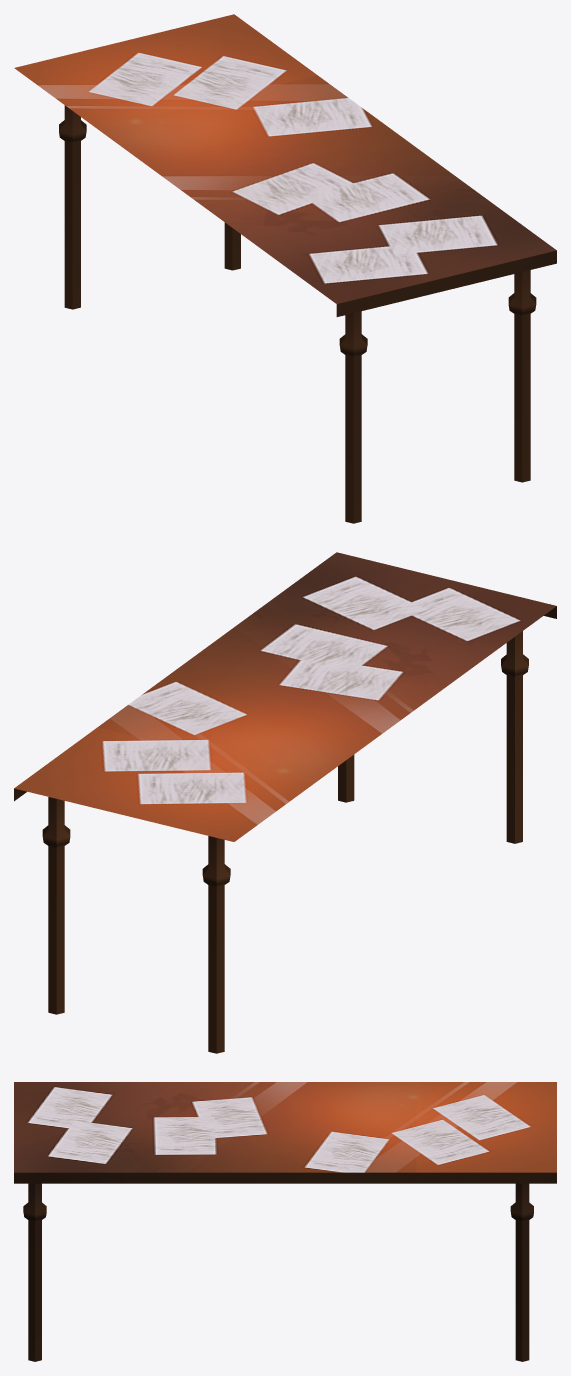
The model's file is Tx_props_defendant_table_6.fbx.
The picture shows the model from 3 angles, top to bottom: view 1: azimuth 30°, elevation 25°; view 2: azimuth 150°, elevation 25°; view 3: azimuth 270°, elevation 25°; orthographic projection. The views are drawn at different scales.
Visible parts, largest first — view 1: polySurface23, polySurface28, polySurface3, polySurface29, polySurface27; view 2: polySurface23, polySurface27, polySurface29, polySurface3, polySurface28; view 3: polySurface23, polySurface27, polySurface28.
Part boxes in pixels (x1,y1,x2,y2): polySurface23: (14,14,556,316); polySurface28: (508,270,536,482); polySurface3: (339,311,367,523); polySurface29: (59,105,86,309); polySurface27: (224,222,240,270); polySurface23: (14,552,556,841); polySurface27: (42,797,70,1014); polySurface29: (202,836,230,1053); polySurface3: (501,631,528,843); polySurface28: (338,754,354,802); polySurface23: (14,1082,556,1183); polySurface27: (510,1183,533,1361); polySurface28: (23,1183,46,1361).
Size of the model in its own units: 4.29 by 4.32 by 10.89.
